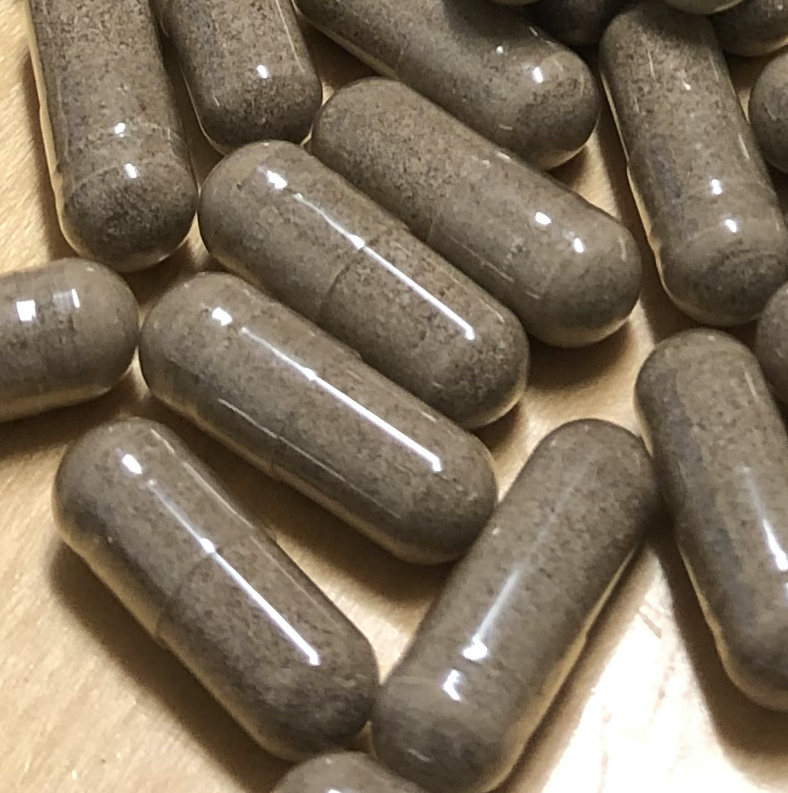capsule: (47, 415, 378, 760), (137, 271, 502, 568), (375, 419, 657, 793), (198, 137, 528, 429), (307, 76, 640, 345), (600, 1, 783, 330), (631, 331, 783, 719), (7, 1, 201, 274), (294, 1, 602, 167), (158, 1, 324, 159), (1, 256, 141, 432)
